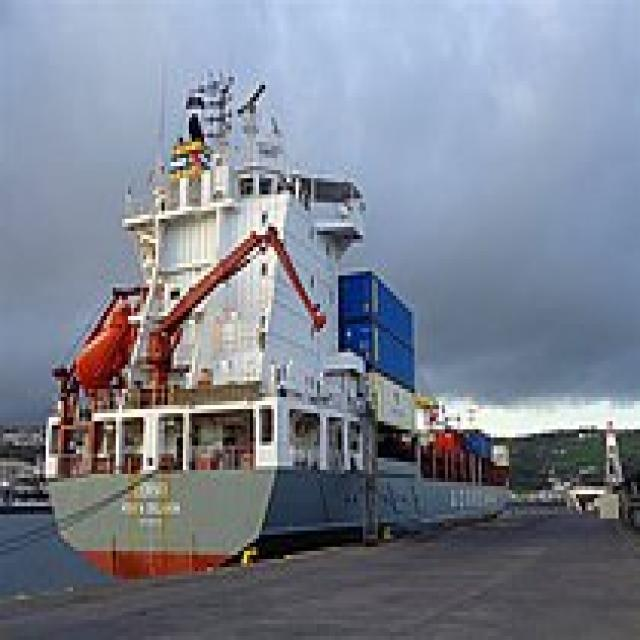Ship: (35, 62, 523, 589)
